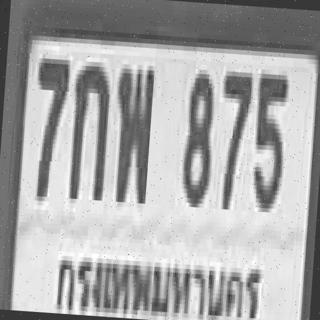A01: (66, 58, 110, 198)
A30: (109, 59, 153, 199)
N05: (250, 69, 287, 208)
N07: (28, 54, 69, 198), (214, 66, 251, 206)
N08: (180, 68, 214, 203)
P04: (51, 244, 270, 320)
